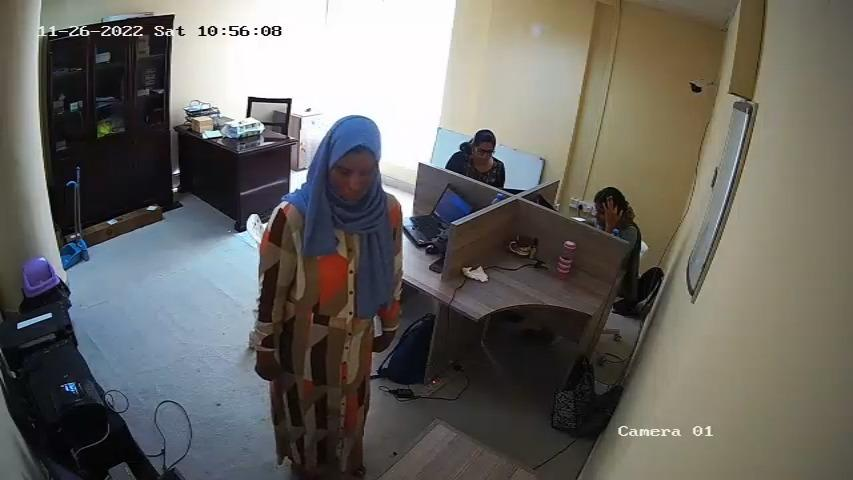no_apron: (287, 214, 375, 419)
